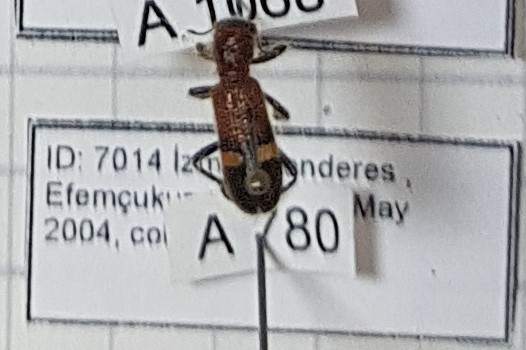opilo_taeniatus: (184, 15, 300, 217)
